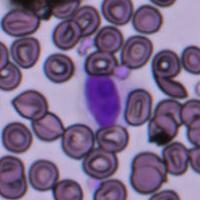L: (77, 75, 122, 128)
